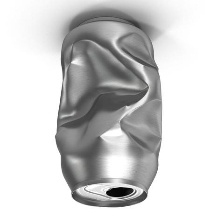can: (49, 12, 165, 210)
